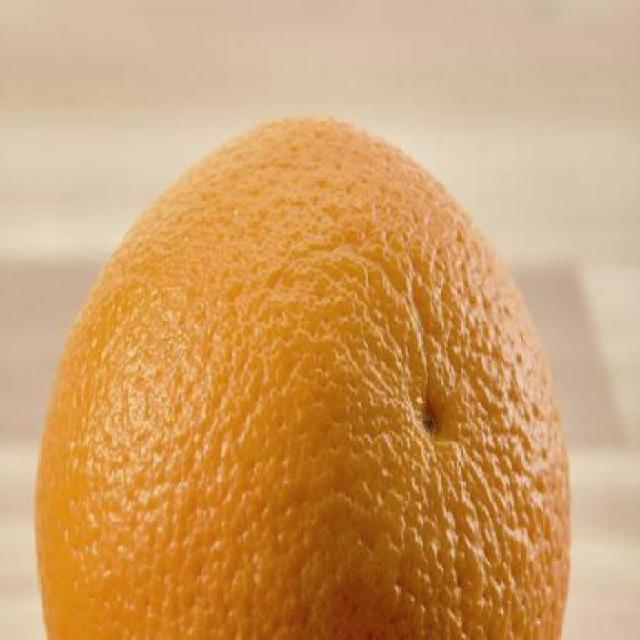Jeruk Sudah Matang: (34, 115, 574, 640)
